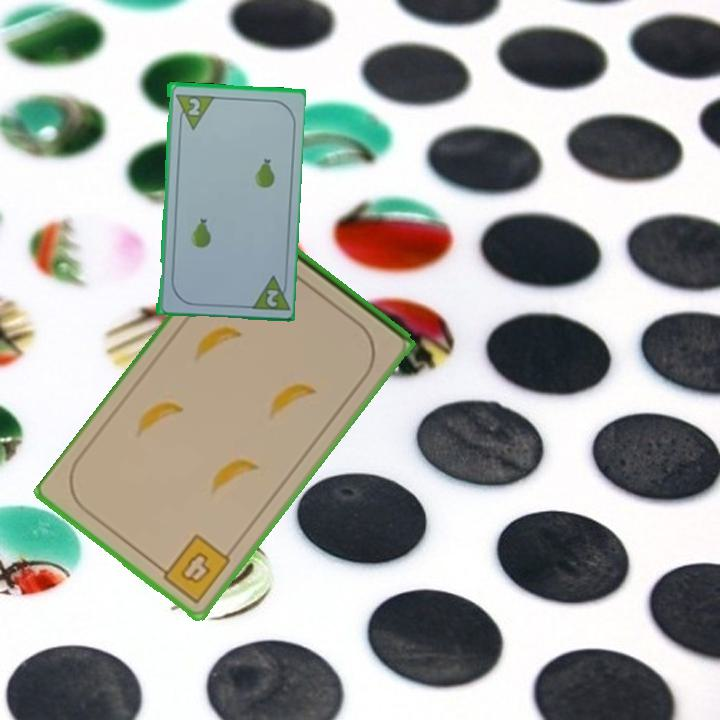2p: (172, 90, 215, 132), (263, 286, 280, 309)
4b: (153, 530, 234, 607)
